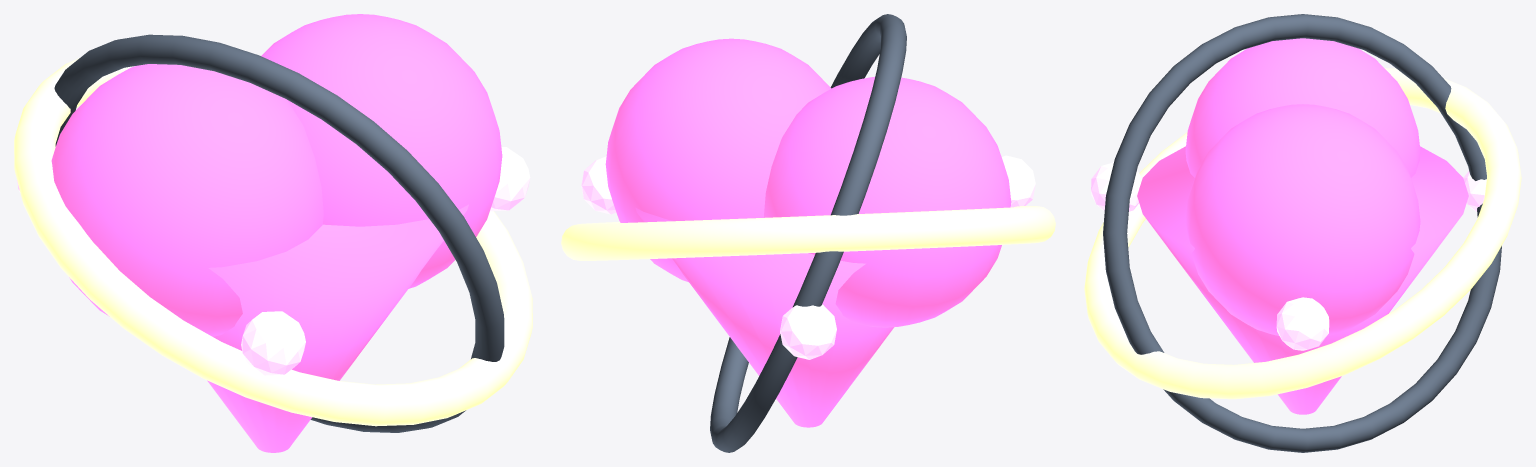
The model's file is powerup-life.glb.
The picture shows the model from 3 angles, left to right: view 1: azimuth 30°, elevation 25°; view 2: azimuth 150°, elevation 25°; view 3: azimuth 270°, elevation 25°; orthographic projection. The views are drawn at different scales.
Parts seen in each view (by area): view 1: PowerupLife; view 2: PowerupLife; view 3: PowerupLife.
Boxes of the visible parts, x1,y1,x2,y2 form: PowerupLife: [14, 14, 532, 452]; PowerupLife: [561, 14, 1055, 452]; PowerupLife: [1084, 14, 1521, 452].
Bounding box in the file's own units: 1.25 × 1.09 × 1.17.
